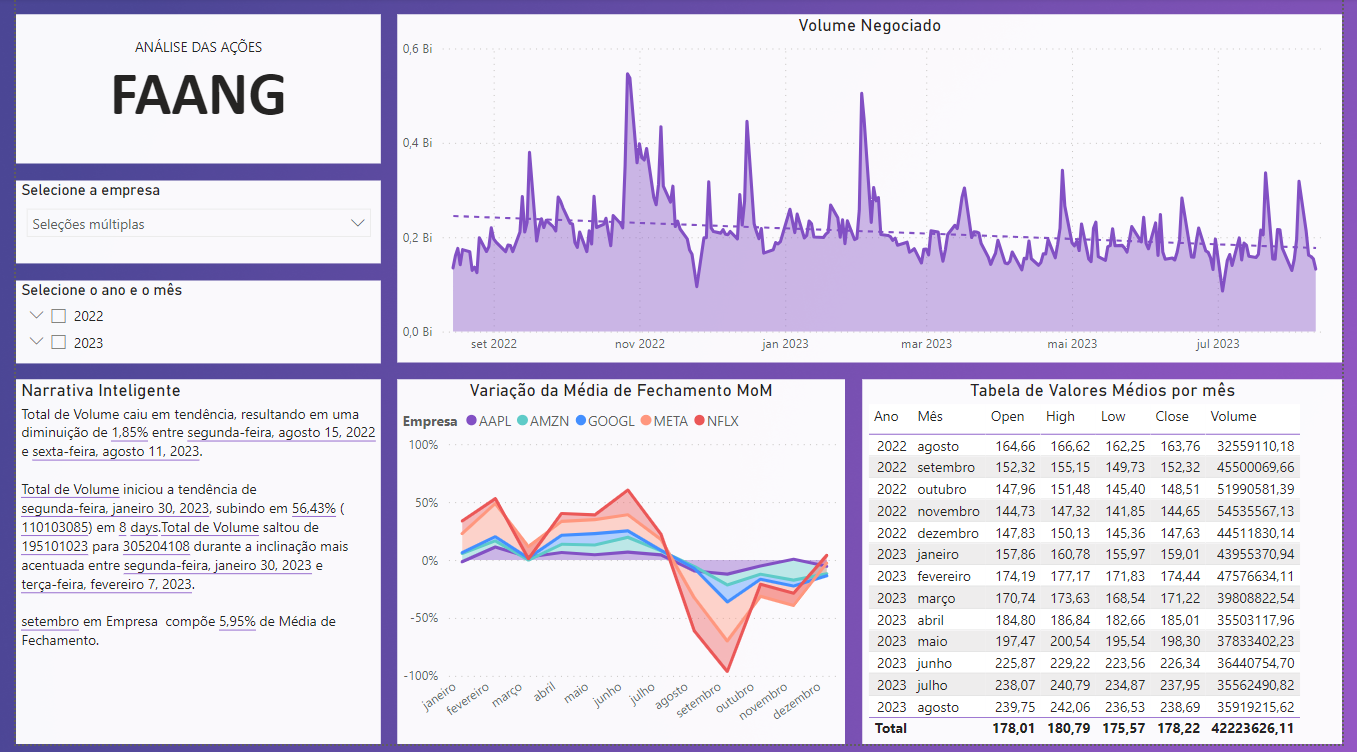

The page's visual inventory and layout, read from the dashboard file:
{"tool":"powerbi","page":{"name":"FAANG","canvas":[1280,720],"ordinal":0},"visuals":[{"type":"areaChart","title":"Volume Negociado","fields":{"Category":["dados_faang.Date.Variation.Hierarquia de datas.Ano","dados_faang.Date.Variation.Hierarquia de datas.Trimestre","dados_faang.Date.Variation.Hierarquia de datas.Mês","dados_faang.Date.Variation.Hierarquia de datas.Dia"],"Y":["Sum(dados_faang.Volume)"]},"box":[368,16,912,336],"z":0},{"type":"tableEx","title":"Tabela de Valores Médios por mês","fields":{"Values":["dados_faang.Date.Variation.Hierarquia de datas.Ano","dados_faang.Date.Variation.Hierarquia de datas.Mês","Avg(dados_faang.Open)","Avg(dados_faang.High)","Avg(dados_faang.Low)","Avg(dados_faang.Close/Last)","Avg(dados_faang.Volume)"]},"box":[816,368,464,352],"z":1000},{"type":"slicer","title":"Selecione a empresa","fields":{"Values":["dados_faang.Ticket"]},"box":[0,176,352,80],"z":2000},{"type":"stackedAreaChart","title":"Variação da Média de Fechamento MoM","fields":{"Category":["dados_faang.Date.Variation.Hierarquia de datas.Mês"],"Series":["dados_faang.Ticket"],"Y":["dados_faang.Média de Close/Last MoM%"]},"box":[368,368,432,352],"z":3000},{"type":"slicer","title":"Selecione o ano e o mês","fields":{"Values":["dados_faang.Date.Variation.Hierarquia de datas.Ano","dados_faang.Date.Variation.Hierarquia de datas.Mês"]},"box":[0,272,352,80],"z":4000},{"type":"textbox","title":"Narrativa Inteligente","box":[0,368,352,352],"z":5000},{"type":"textbox","box":[0,16,352,144],"z":6000}]}

Visuals, with their boxes in screenshot pixels (x1, y1, x2, y2), scaled from the page's 1280x720 canvas onto the 1357x752 screenshot:
"Volume Negociado" areaChart: <region>390, 17, 1356, 368</region>
"Tabela de Valores Médios por mês" tableEx: <region>865, 384, 1356, 751</region>
"Selecione a empresa" slicer: <region>0, 184, 373, 267</region>
"Variação da Média de Fechamento MoM" stackedAreaChart: <region>390, 384, 848, 751</region>
"Selecione o ano e o mês" slicer: <region>0, 284, 373, 368</region>
"Narrativa Inteligente" textbox: <region>0, 384, 373, 751</region>
textbox: <region>0, 17, 373, 167</region>
